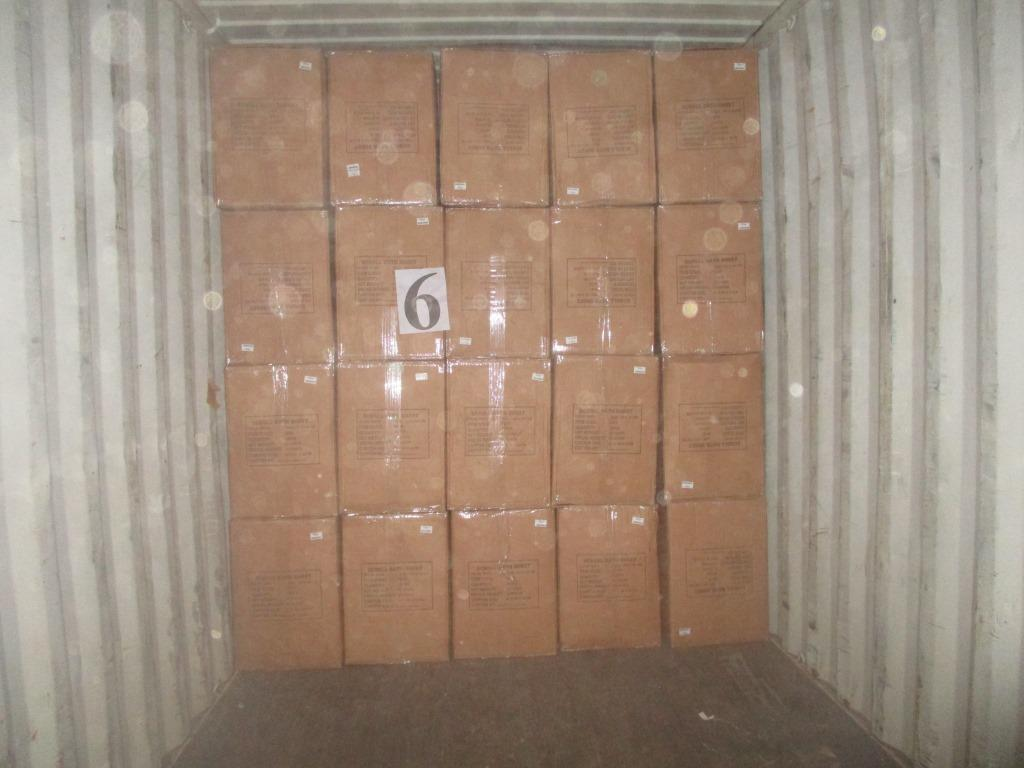carton: (211, 44, 327, 207), (220, 210, 335, 364), (438, 45, 548, 205), (230, 517, 343, 671), (333, 205, 444, 360), (224, 364, 336, 517), (547, 47, 656, 204), (327, 48, 437, 203), (652, 48, 762, 202), (336, 360, 446, 513), (656, 498, 769, 646), (342, 511, 450, 663), (552, 353, 660, 504), (656, 201, 762, 354), (445, 356, 551, 509), (442, 207, 550, 357), (450, 506, 556, 657), (550, 205, 656, 354), (659, 353, 763, 501), (556, 504, 659, 649)
